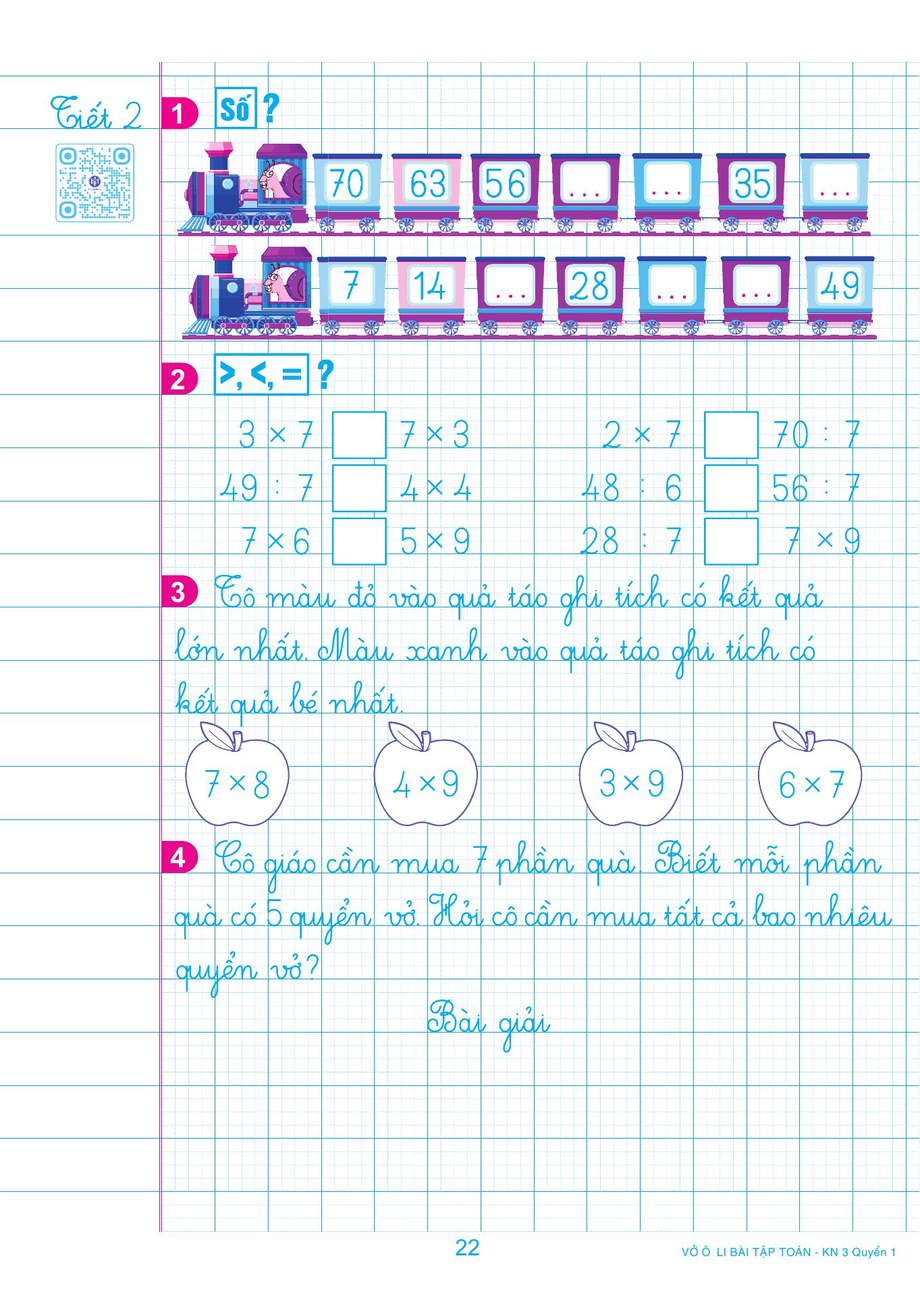None: (156, 573, 915, 829), (156, 349, 912, 572)
Tự luận: (157, 836, 920, 1192)
Điền từ: (161, 83, 915, 351)
